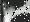person: (2, 1, 30, 22)
